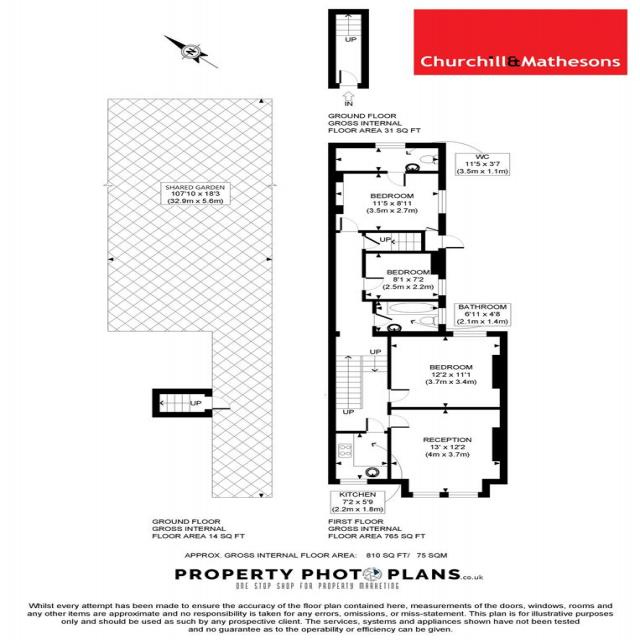DOOR: (438, 234, 465, 249), (386, 170, 407, 187), (386, 414, 411, 428), (361, 277, 385, 291), (387, 389, 410, 403), (365, 418, 385, 434), (340, 217, 359, 233), (361, 236, 382, 250)
ROOM: (387, 407, 508, 498), (387, 331, 508, 410), (327, 170, 446, 233), (362, 250, 447, 302), (328, 417, 392, 484)
WINDOW: (437, 190, 447, 214), (374, 142, 406, 149), (452, 331, 488, 337), (339, 478, 368, 485), (448, 492, 479, 498), (412, 492, 440, 498), (437, 279, 446, 296), (438, 307, 446, 325)
